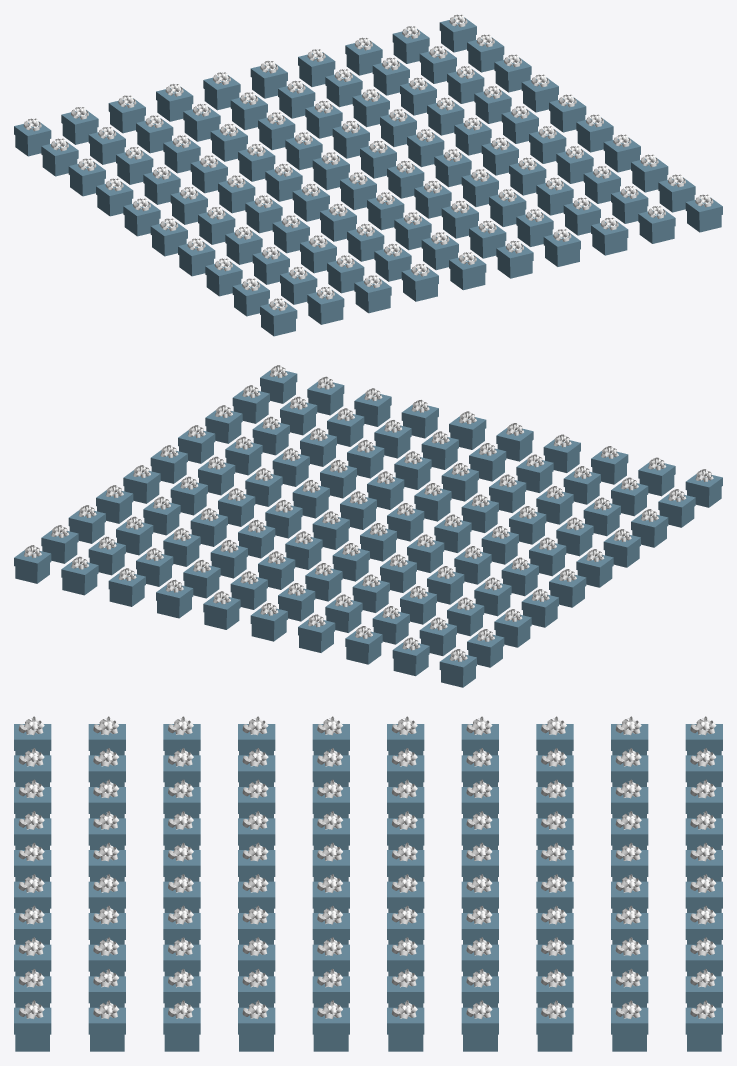
Rendered from christmas_challenge.gltf.
3 renders of one model, top to bottom at view 1: azimuth 30°, elevation 25°; view 2: azimuth 150°, elevation 25°; view 3: azimuth 270°, elevation 25°, orthographic. The views are drawn at different scales.
Parts seen in each view (by area): view 1: Gift (×100); view 2: Gift (×100); view 3: Gift (×100).
Boxes of the visible parts, x1,y1,x2,y2 form: Gift (×100): (14,14,722,336); Gift (×100): (14,365,722,687); Gift (×100): (14,716,722,1051).
Size of the model in its own units: 570 by 36.7 by 570.
